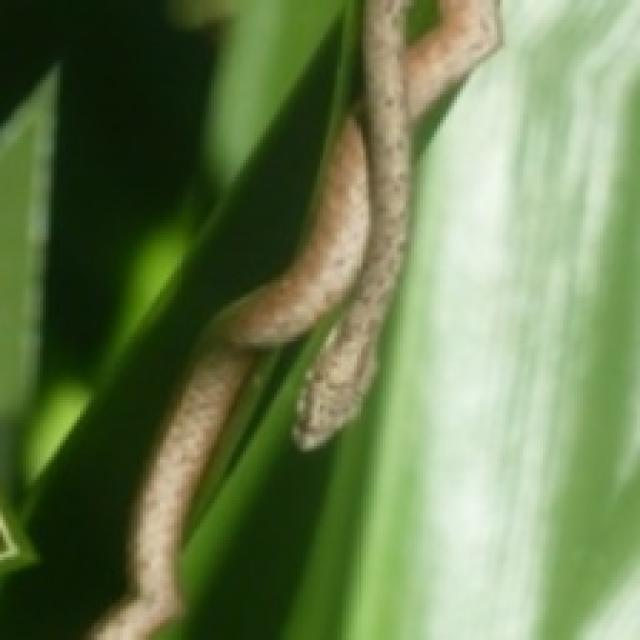philippine whip snake: (89, 0, 500, 637)
